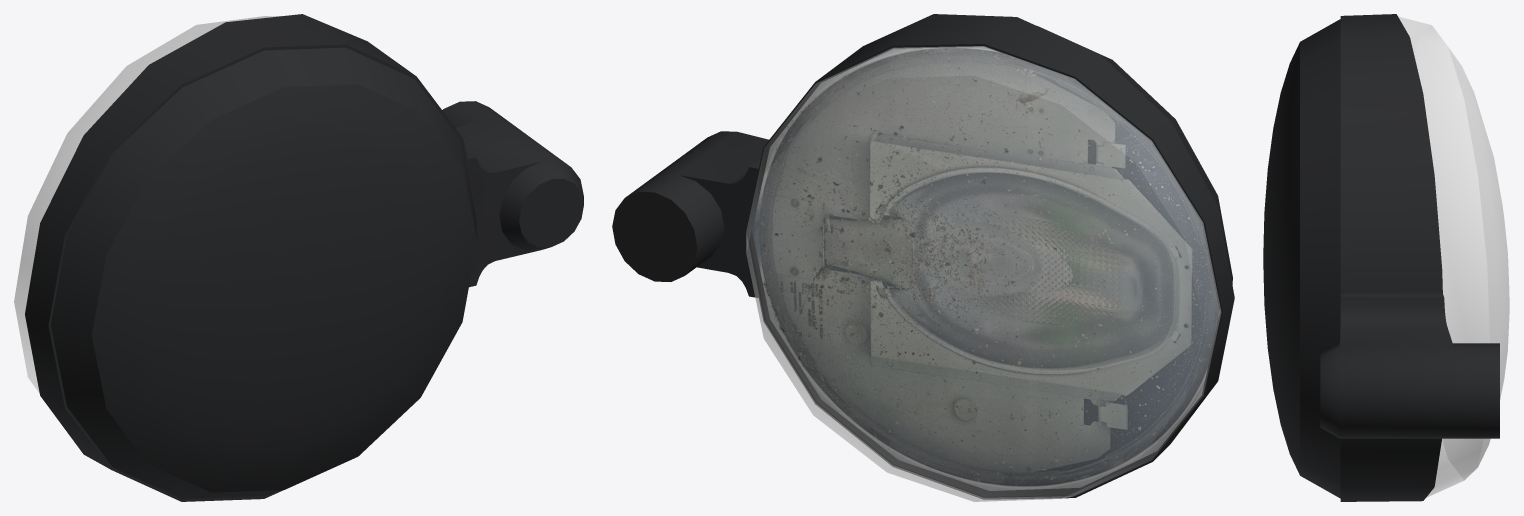
3 renders of one model, left to right at view 1: azimuth 30°, elevation 25°; view 2: azimuth 150°, elevation 25°; view 3: azimuth 270°, elevation 25°, orthographic. The views are drawn at different scales.
Visible parts, largest first — view 1: Deckel_oben_Sphere.003, BezierCurve.001_BezierCurve.011, Cylinder_Cylinder.002, Glas_unten_Sphere.002; view 2: Glas_unten_Sphere.002, Cylinder.001_Cylinder, BezierCurve.001_BezierCurve.011, Cylinder_Cylinder.002, Deckel_oben_Sphere.003; view 3: BezierCurve.001_BezierCurve.011, Deckel_oben_Sphere.003, Cylinder_Cylinder.002, Glas_unten_Sphere.002.
Part boxes in pixels (x1,y1,x2,y2): Deckel_oben_Sphere.003: (50,47,477,498); BezierCurve.001_BezierCurve.011: (25,14,479,501); Cylinder_Cylinder.002: (442,101,583,287); Glas_unten_Sphere.002: (14,16,281,392); Glas_unten_Sphere.002: (746,46,1221,501); Cylinder.001_Cylinder: (752,47,1219,490); BezierCurve.001_BezierCurve.011: (745,14,1234,499); Cylinder_Cylinder.002: (612,131,768,297); Deckel_oben_Sphere.003: (1037,26,1232,284); BezierCurve.001_BezierCurve.011: (1340,14,1442,501); Deckel_oben_Sphere.003: (1263,19,1340,498); Cylinder_Cylinder.002: (1320,293,1499,438); Glas_unten_Sphere.002: (1398,16,1509,497).
Size of the model in its own units: 0.5765 by 0.4598 by 0.233.
